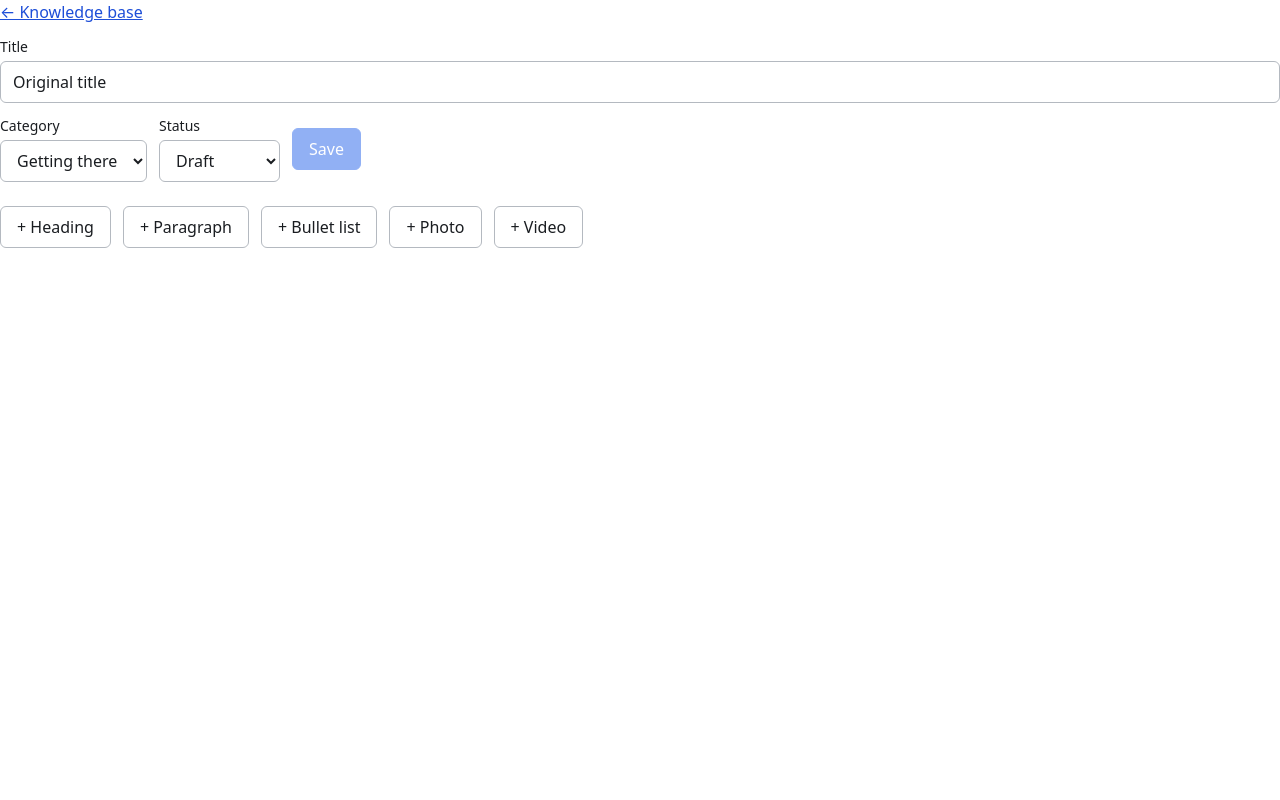
Test: ArticleEditorPage — stale article conflict (409) › shows the reload/copy prompt and never silently overwrites
Type " (edited)" into the field labelled "Title" at [640, 82], box [0,61,1279,103]
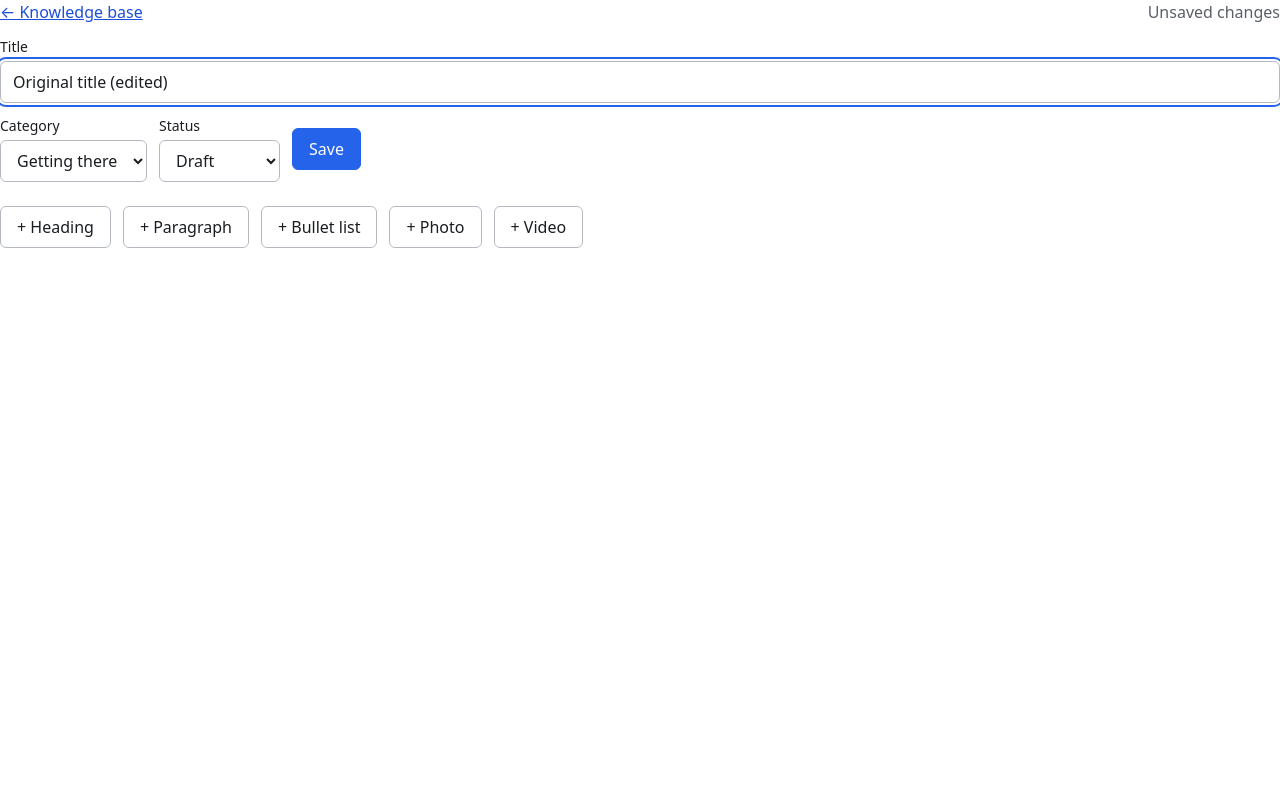
Click the button "Save" at [326, 148], box [292,128,361,170]
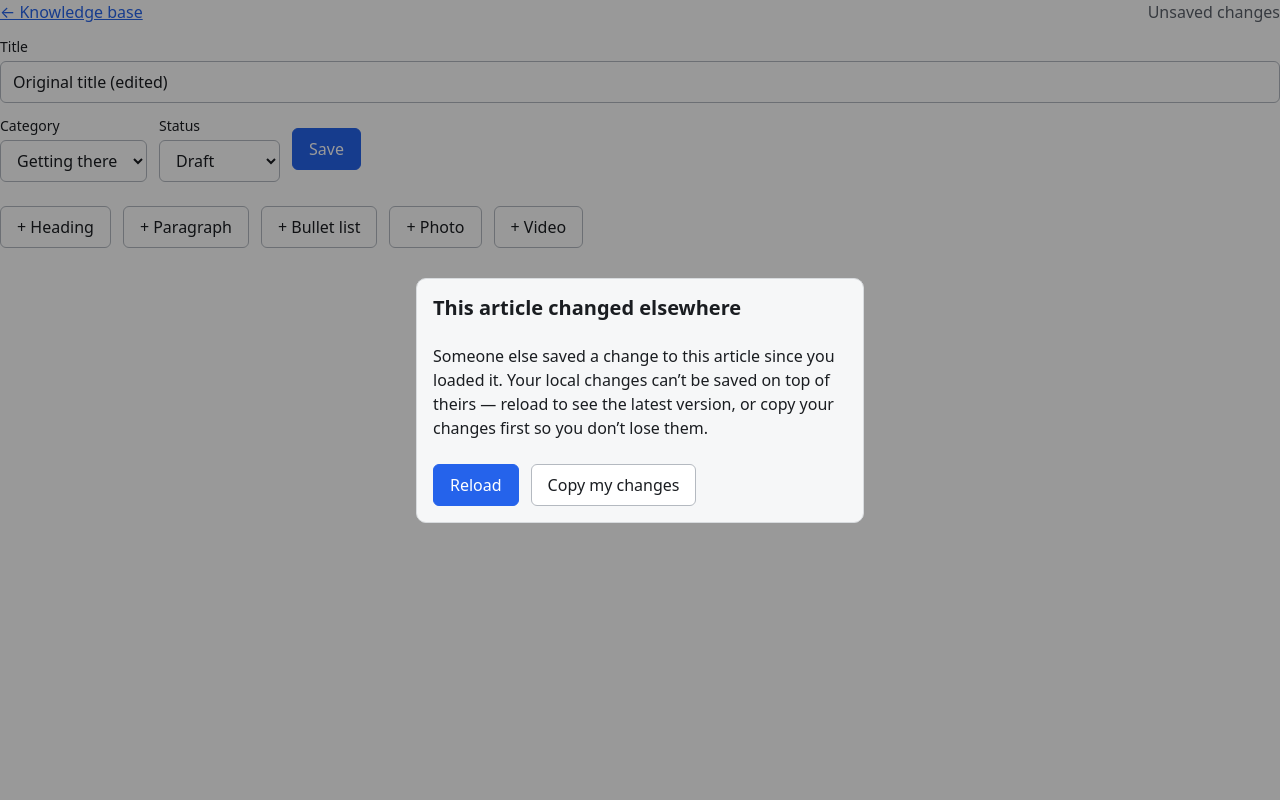
Expected: the field labelled "Title" holds "Original title (edited)", [0,61,1279,103]
Expected: the heading "This article changed elsewhere" is shown, [433,294,741,320]
